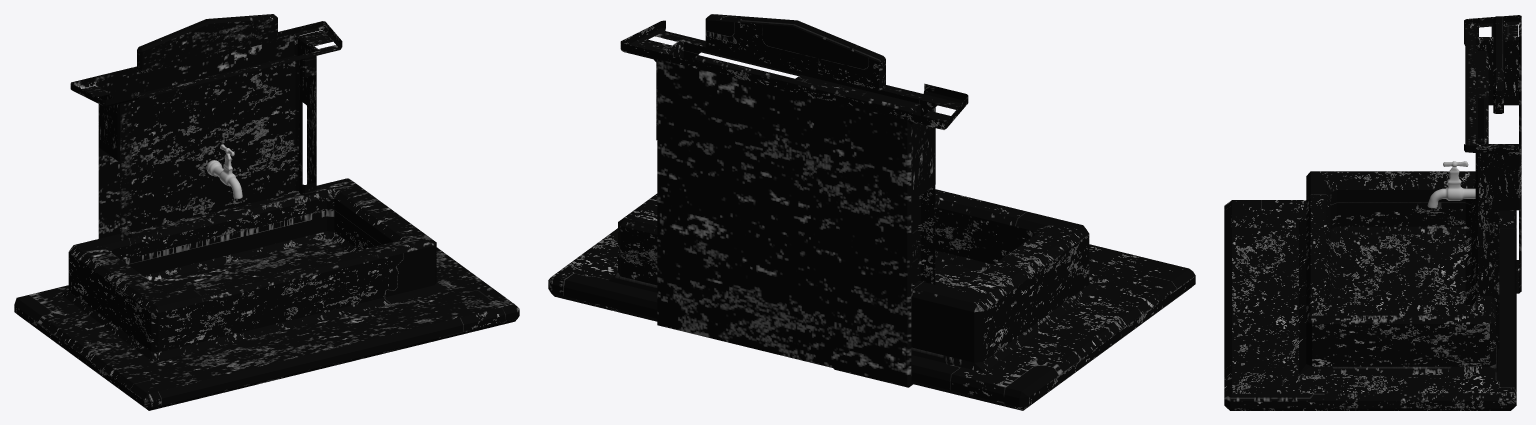
File: hayratblend.fbx
3 views of the same model, side by side, from view 1: azimuth 30°, elevation 25°; view 2: azimuth 150°, elevation 25°; view 3: azimuth 270°, elevation 25° (orthographic). The views are drawn at different scales.
Visible parts, largest first — view 1: bottom, body, Cylinder; view 2: body, bottom; view 3: bottom, body, Cylinder.
Boxes of the visible parts, left/top/right/bottom form: bottom: left=14, top=178, right=519, bottom=410; body: left=70, top=14, right=342, bottom=240; Cylinder: left=206, top=153, right=242, bottom=198; body: left=620, top=14, right=968, bottom=387; bottom: left=548, top=189, right=1195, bottom=410; bottom: left=1224, top=171, right=1516, bottom=410; body: left=1464, top=15, right=1521, bottom=348; Cylinder: left=1427, top=167, right=1475, bottom=208.
Size of the model in its own units: 805 by 523 by 512.
Materials: 2 (1 with a texture image).
